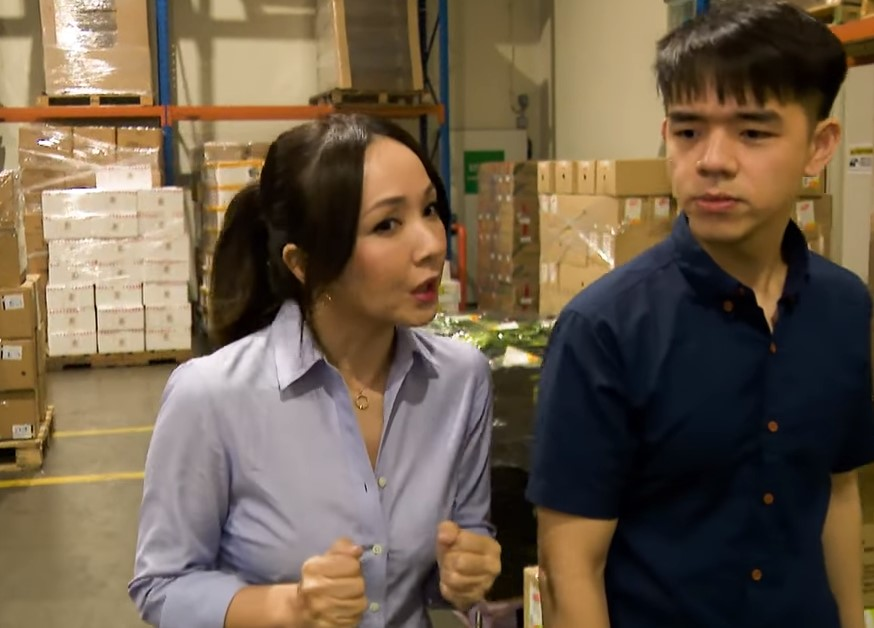face_no_mask: (653, 3, 848, 249), (255, 106, 460, 328)
